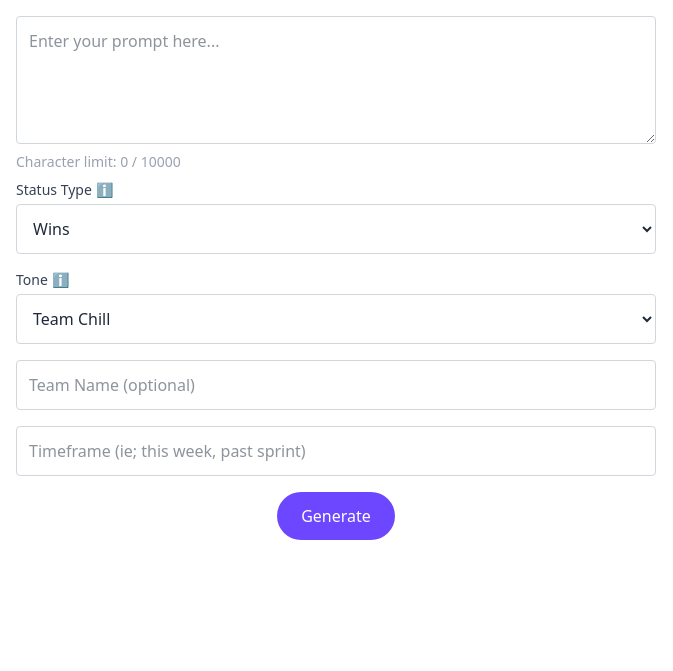
Test: copy-to-clipboard › copies summary text to clipboard and shows success message
// Fill out prompt and click generate
Type "Sprint update" into the text box with placeholder "Enter your prompt here..." at [336, 80], box x1=16 y1=16 x2=656 y2=144
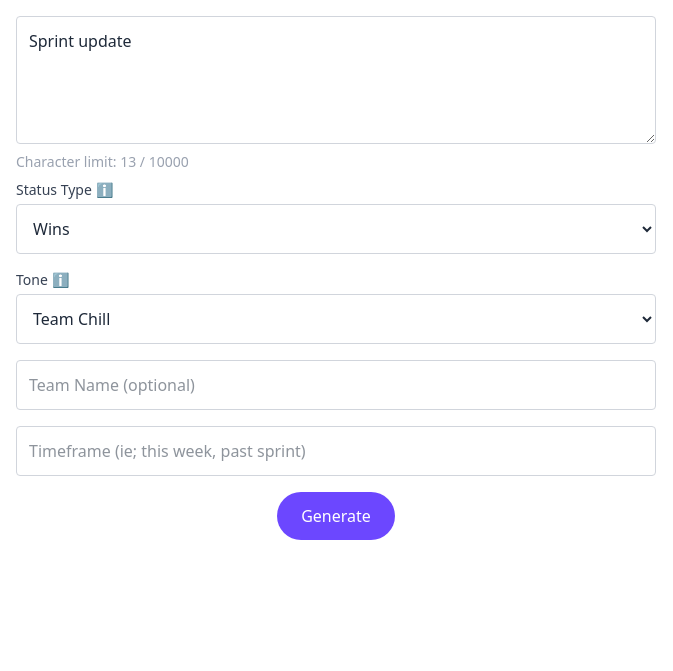
Click the button "Generate" at [336, 516], box x1=277 y1=492 x2=395 y2=540
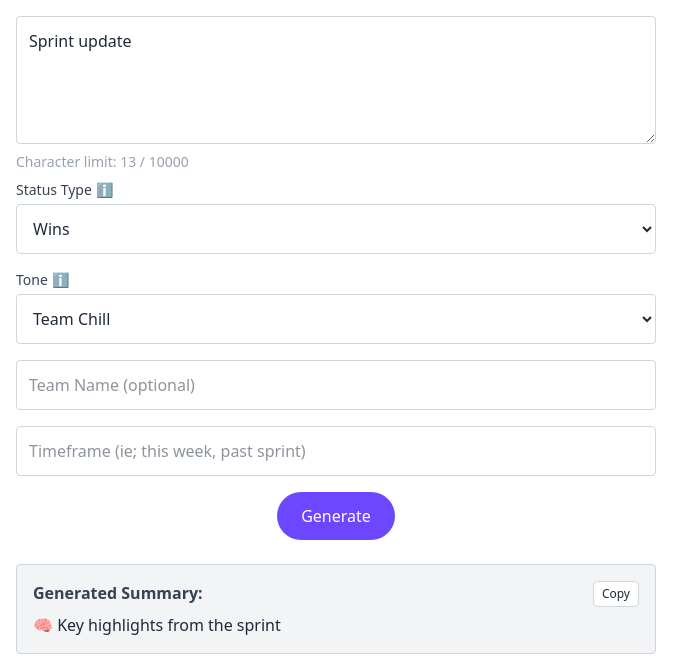
Now the text "🧠 Key highlights from the sprint" is shown, box x1=33 y1=614 x2=281 y2=636
// Now click the copy button
Click the button "Copy" at [616, 594], box x1=593 y1=581 x2=639 y2=607
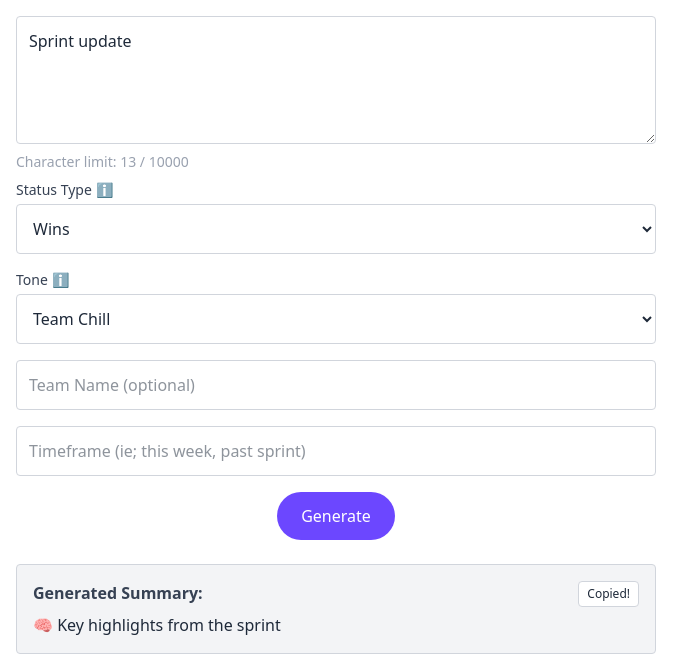
Now the button "Copied!" is shown, box x1=578 y1=581 x2=639 y2=607
